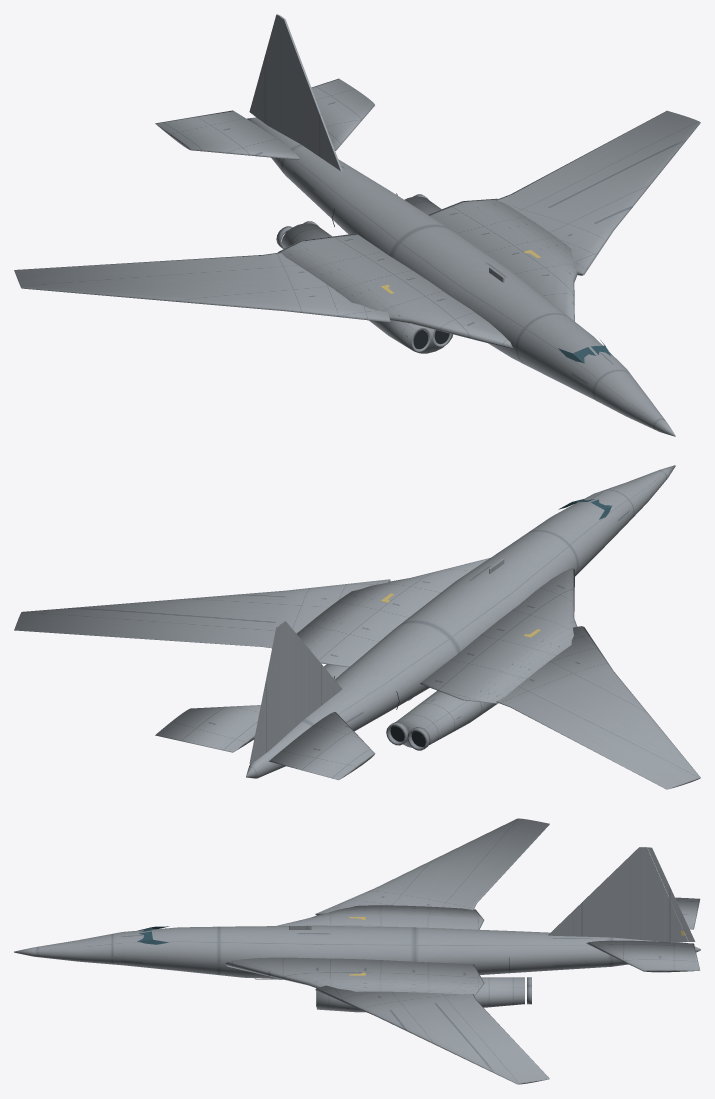
The picture shows the model from 3 angles, top to bottom: view 1: azimuth 30°, elevation 25°; view 2: azimuth 150°, elevation 25°; view 3: azimuth 270°, elevation 25°; orthographic projection. The views are drawn at different scales.
Parts seen in each view (by area): view 1: airframe_static, wing_sweep_L, wing_sweep_R, tailplane_L, tailplane_R; view 2: airframe_static, wing_sweep_L, wing_sweep_R, tailplane_L, tailplane_R, rudder_center; view 3: airframe_static, wing_sweep_R, wing_sweep_L, tailplane_R, rudder_center, tailplane_L.
Boxes of the visible parts, x1=… form: airframe_static: x1=247, y1=16, x2=675, y2=436; wing_sweep_L: x1=14, y1=252, x2=390, y2=322; wing_sweep_R: x1=496, y1=110, x2=700, y2=275; tailplane_L: x1=155, y1=110, x2=299, y2=159; tailplane_R: x1=311, y1=78, x2=374, y2=150; airframe_static: x1=246, y1=465, x2=675, y2=778; wing_sweep_L: x1=496, y1=626, x2=700, y2=789; wing_sweep_R: x1=14, y1=579, x2=390, y2=648; tailplane_L: x1=269, y1=712, x2=375, y2=780; tailplane_R: x1=155, y1=705, x2=260, y2=752; rudder_center: x1=249, y1=624, x2=280, y2=764; airframe_static: x1=14, y1=847, x2=700, y2=1012; wing_sweep_R: x1=315, y1=985, x2=549, y2=1084; wing_sweep_L: x1=315, y1=818, x2=549, y2=915; tailplane_R: x1=586, y1=940, x2=700, y2=972; rudder_center: x1=647, y1=847, x2=695, y2=941; tailplane_L: x1=671, y1=897, x2=700, y2=929.
Size of the model in its own units: 49.47 by 12.23 by 54.1.
5 materials, 1 textured.
